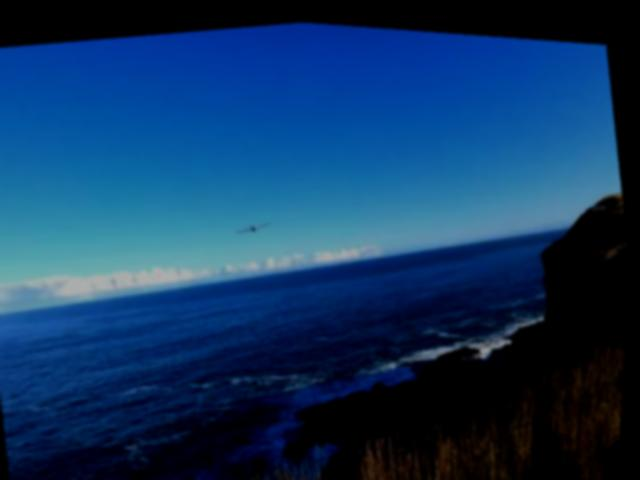uav: (233, 208, 277, 238)
